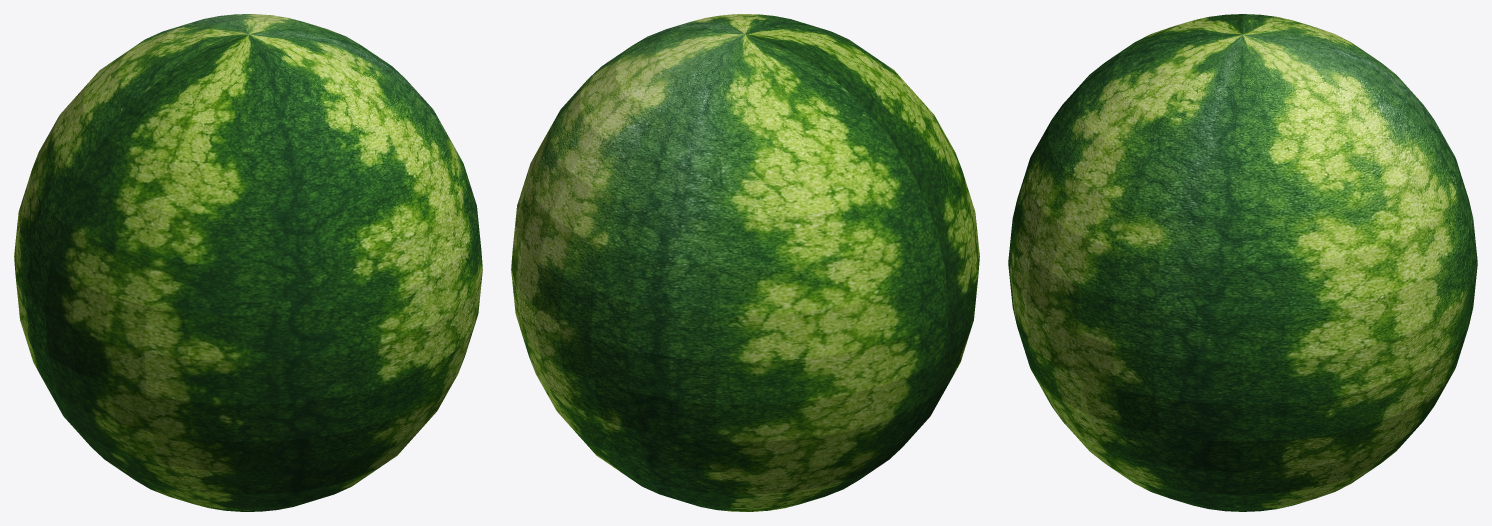
The model's file is Watermelon.fbx.
3 renders of one model, left to right at view 1: azimuth 30°, elevation 25°; view 2: azimuth 150°, elevation 25°; view 3: azimuth 270°, elevation 25°, orthographic.
Parts seen in each view (by area): view 1: Watermelon; view 2: Watermelon; view 3: Watermelon.
Part boxes in pixels (box(x1,y1,x2,y2)): Watermelon: box(14, 14, 482, 511); Watermelon: box(511, 14, 979, 511); Watermelon: box(1008, 14, 1477, 511).
Bounding box in the file's own units: 200 × 215 × 200.
1 material, 1 textured.
